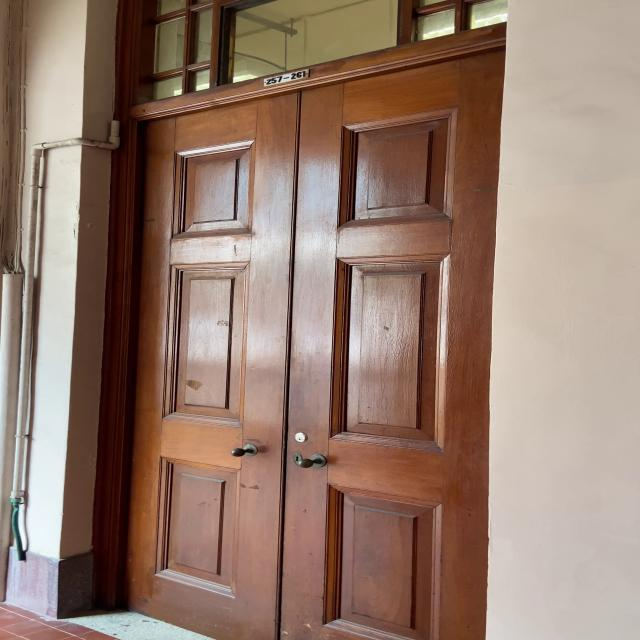room257: (259, 66, 311, 90)
room257door: (110, 22, 502, 640)
